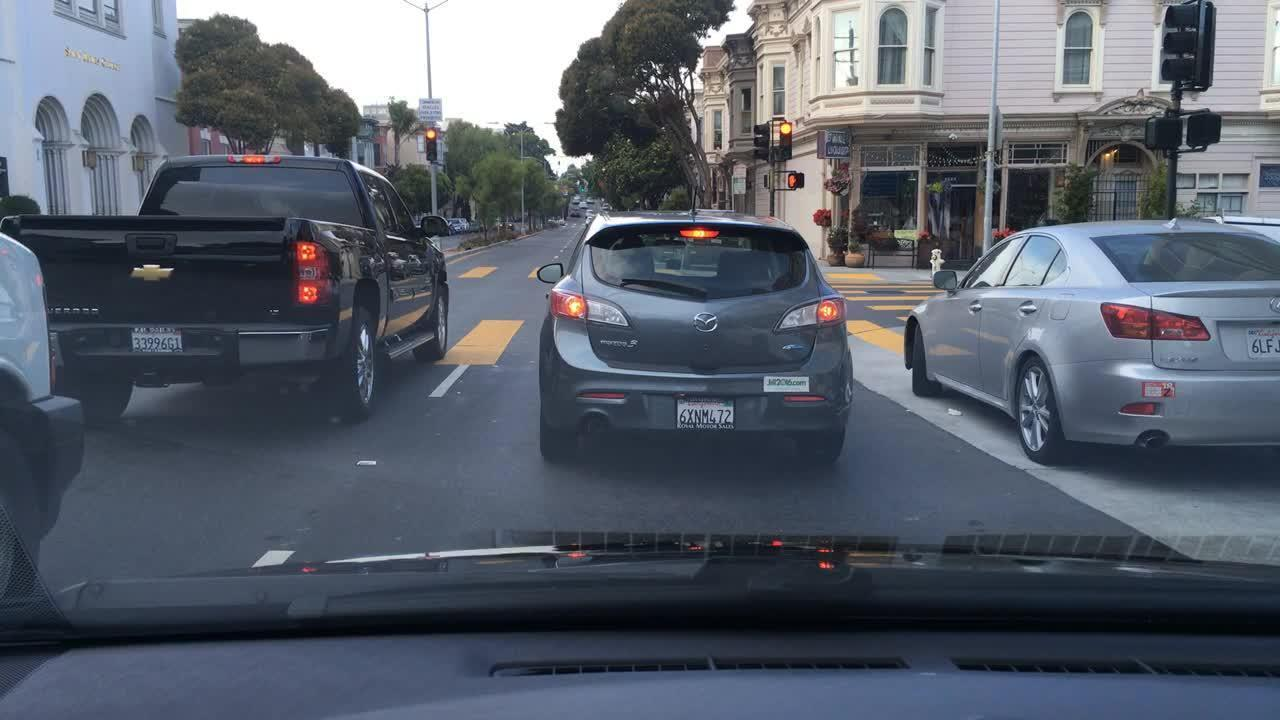Mazda: (691, 312, 721, 337)
lexus: (125, 257, 182, 286)
